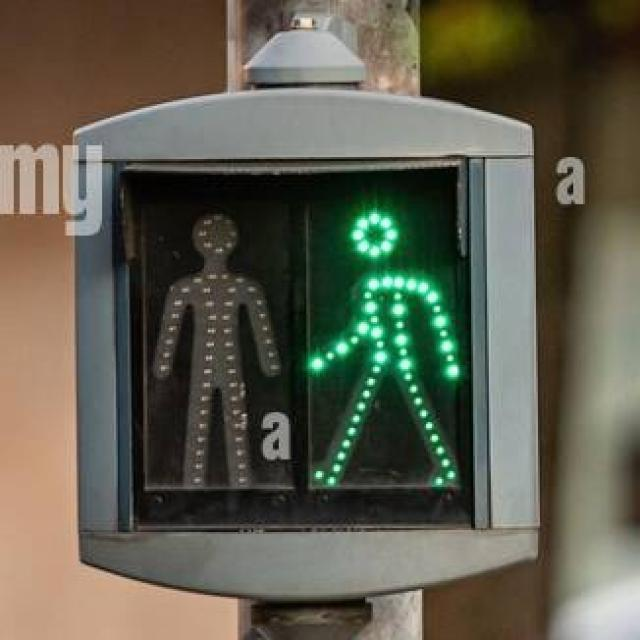geen-crossing: (302, 178, 468, 491)
